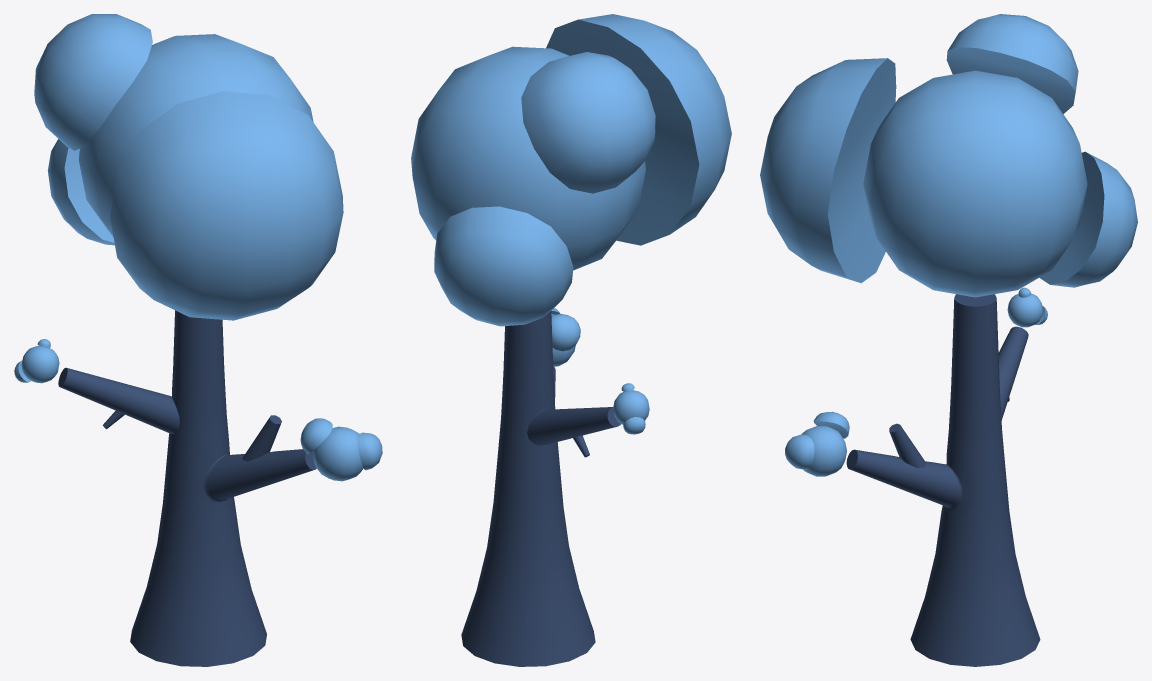
Rendered from deciduousSphereBroken1.glb.
3 renders of one model, left to right at view 1: azimuth 30°, elevation 25°; view 2: azimuth 150°, elevation 25°; view 3: azimuth 270°, elevation 25°, orthographic. The views are drawn at different scales.
Parts seen in each view (by area): view 1: leaves.011, trunk.001, leaves.020, leaves.013, leaves.012, leaves.019, leaves.018, leaves.017, leaves.016; view 2: trunk.001, leaves.020, leaves.011, leaves.013, leaves.012, leaves.018, leaves.017; view 3: leaves.020, trunk.001, leaves.011, leaves.013, leaves.012, leaves.019, leaves.018, leaves.016, leaves.017.
Part boxes in pixels (x1,y1,x2,y2): leaves.011: (110, 91, 343, 320); trunk.001: (58, 310, 316, 666); leaves.020: (79, 34, 313, 237); leaves.013: (34, 14, 152, 150); leaves.012: (47, 139, 114, 245); leaves.019: (313, 426, 363, 481); leaves.018: (21, 345, 59, 383); leaves.017: (300, 418, 332, 454); leaves.016: (357, 432, 382, 470); trunk.001: (461, 311, 620, 666); leaves.020: (411, 46, 645, 270); leaves.011: (546, 14, 731, 245); leaves.013: (521, 52, 655, 193); leaves.012: (434, 206, 573, 326); leaves.018: (613, 390, 649, 424); leaves.017: (551, 314, 580, 351); leaves.020: (863, 70, 1087, 297); trunk.001: (846, 294, 1040, 666); leaves.011: (760, 58, 896, 283); leaves.013: (946, 14, 1078, 113); leaves.012: (1039, 151, 1137, 287); leaves.019: (801, 425, 846, 476); leaves.018: (1007, 293, 1042, 327); leaves.016: (785, 434, 814, 469); leaves.017: (813, 411, 849, 438).
Size of the model in its own units: 6.2 by 14.52 by 8.5.
1 material, 1 textured.
